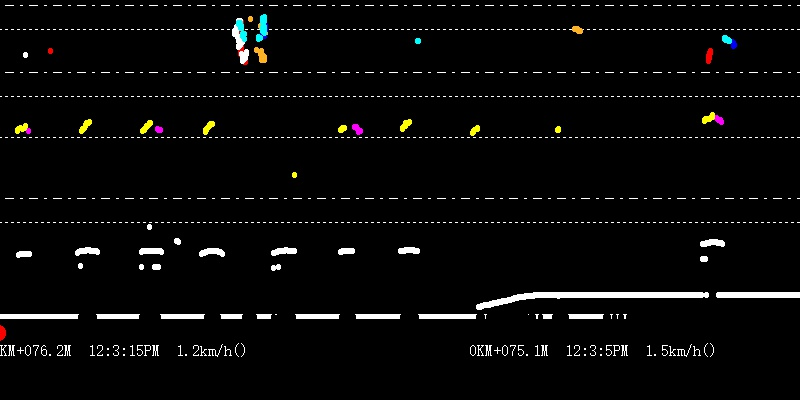J: (231, 3, 272, 66)
face_1: (570, 20, 583, 39)
